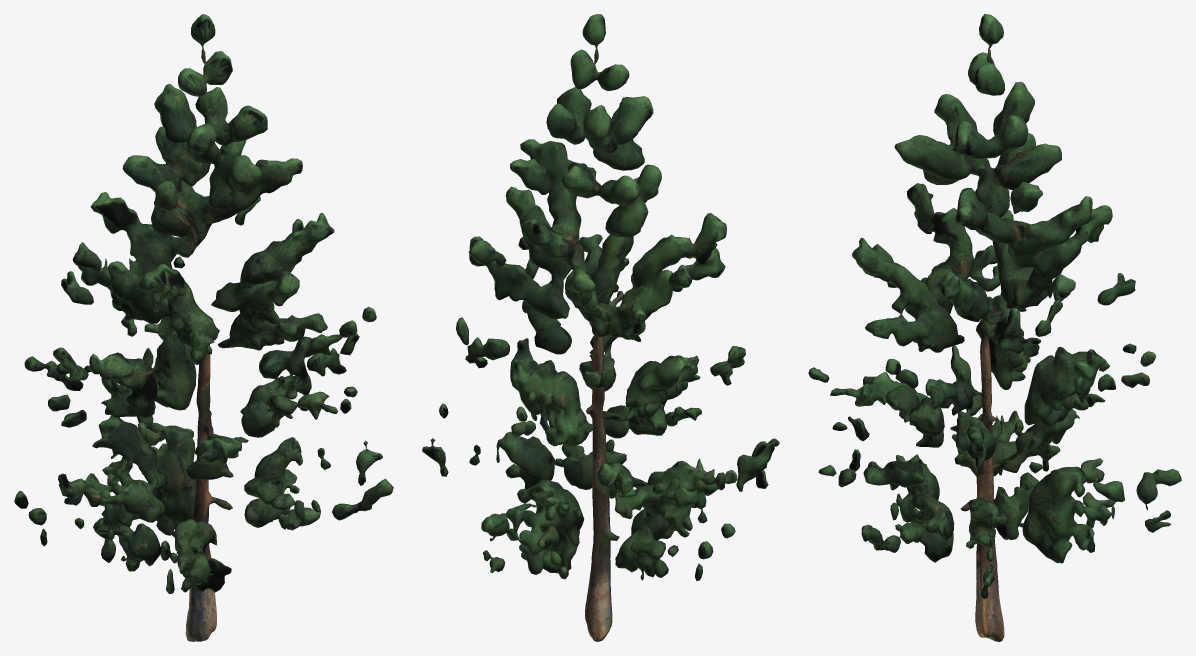
File: AI_DroopingSpruceTree.fbx
3 views of the same model, side by side, from view 1: azimuth 30°, elevation 25°; view 2: azimuth 150°, elevation 25°; view 3: azimuth 270°, elevation 25° (orthographic).
Visible parts, largest first — view 1: Mesh_0; view 2: Mesh_0; view 3: Mesh_0.
Part boxes in pixels (<box>): Mesh_0: <box>14,14,393,641</box>; Mesh_0: <box>422,14,779,641</box>; Mesh_0: <box>808,14,1181,641</box>.
Size of the model in its own units: 114 by 200 by 108.
1 material, 1 textured.
